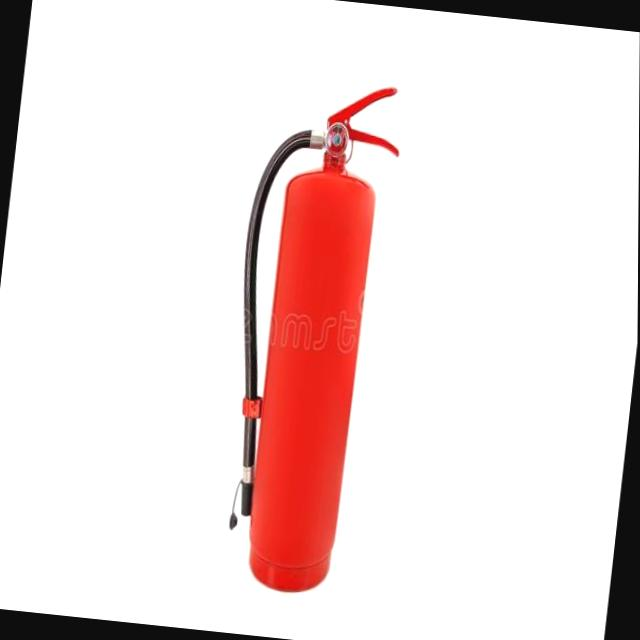FireExtinguisher: (204, 69, 409, 606)
